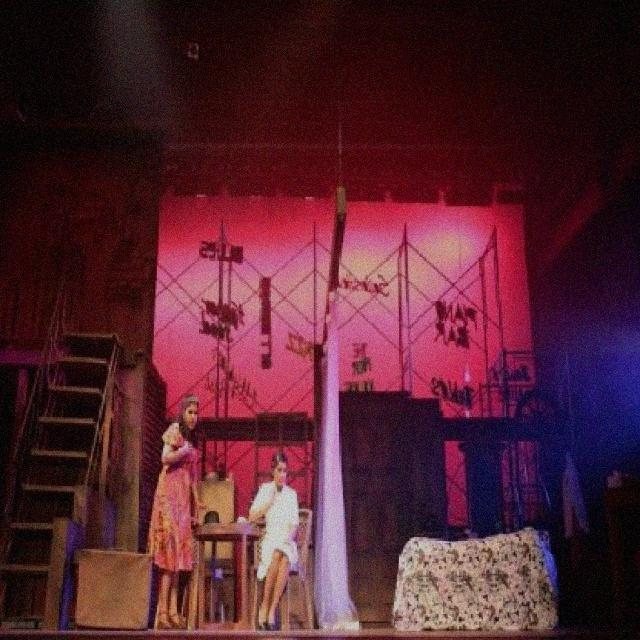stair: (1, 324, 125, 640)
